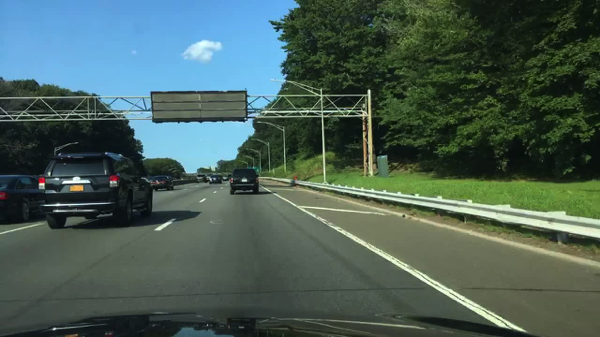car: (39, 152, 154, 230), (0, 174, 41, 223), (230, 168, 259, 195), (149, 176, 174, 191), (209, 174, 223, 184), (196, 174, 206, 184), (206, 174, 213, 182), (223, 176, 229, 182), (228, 174, 232, 179)
traffic sign: (150, 91, 247, 123), (253, 167, 261, 173)
